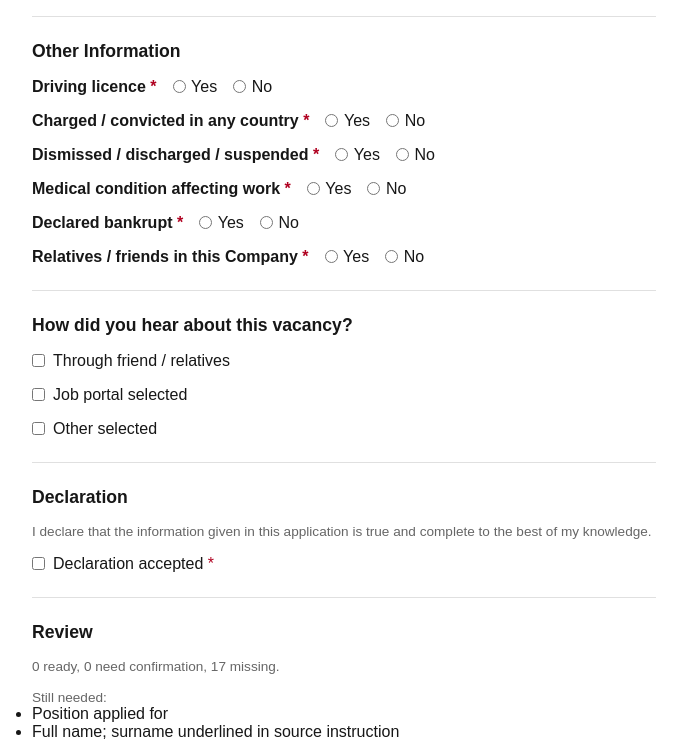
Test case: CandidateForm › reveals the job portal name only when job portal is checked
The width and height of the screenshot is (673, 741).
(page scrolled)
expect the field labelled "Job portal name" is not shown: met
Click the checkbox labelled "Job portal selected" at (38, 395), box [32,388,45,402]
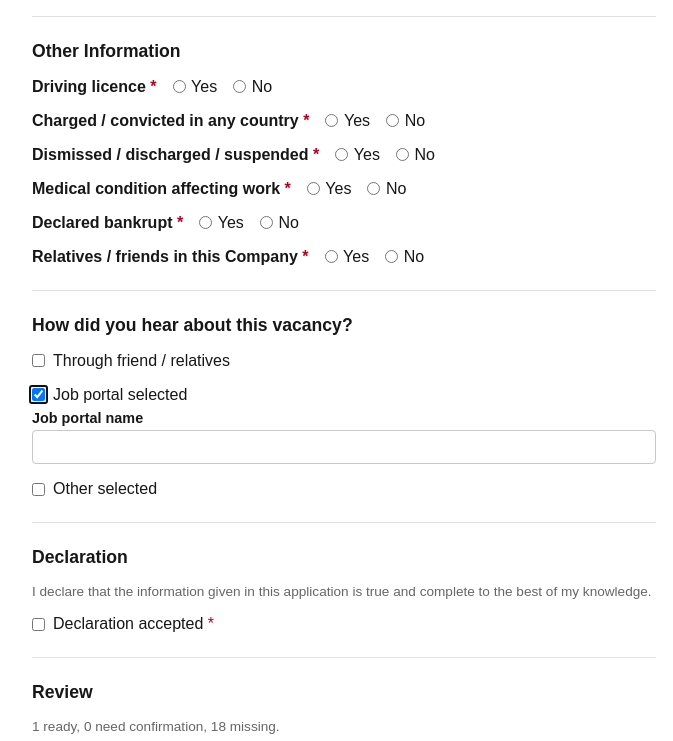
expect the field labelled "Job portal name" is shown: met, box [32,430,656,464]
